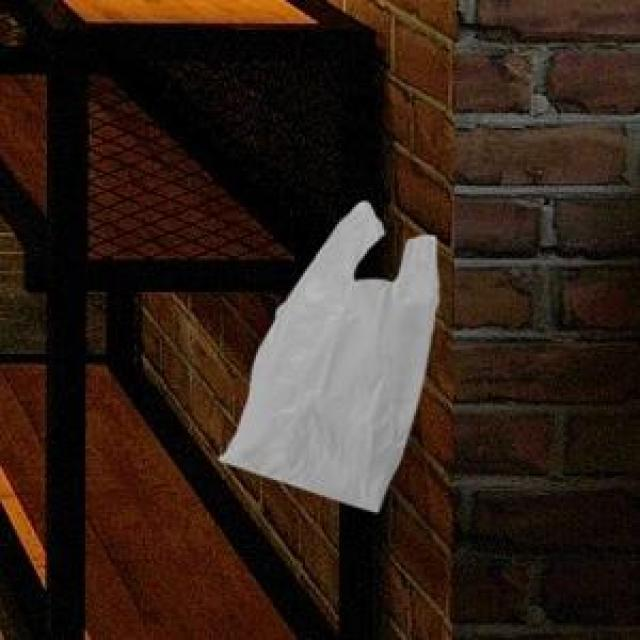waste: (220, 201, 439, 512)
